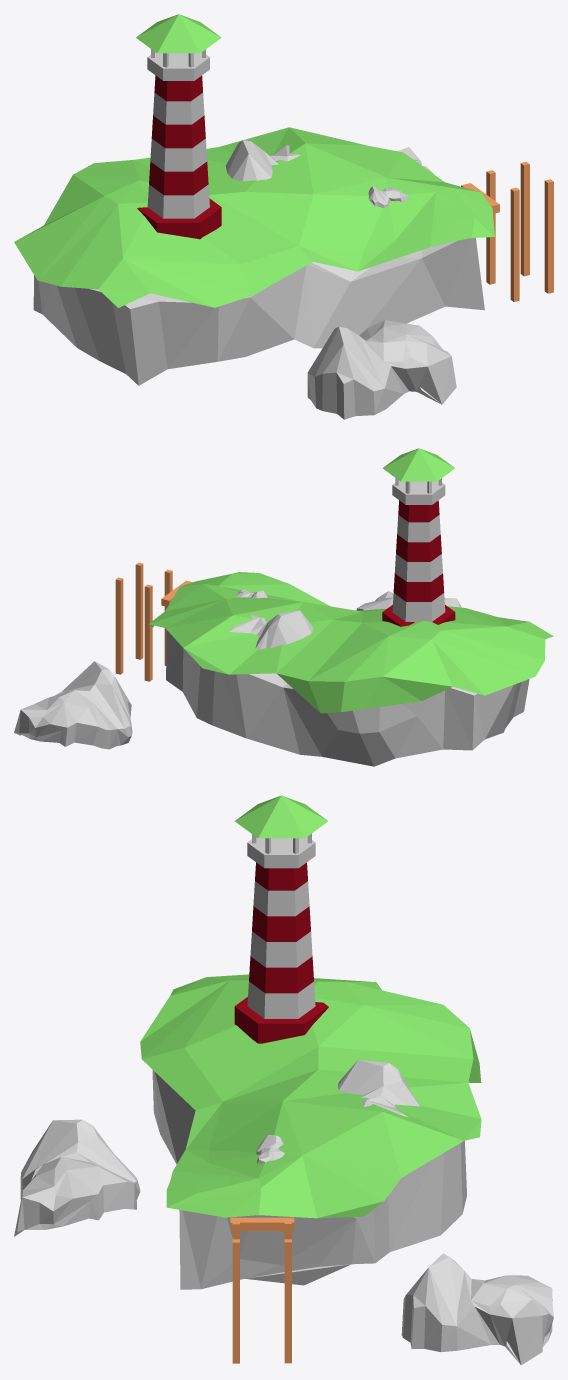
File: lighthouse.glb
3 renders of one model, top to bottom at view 1: azimuth 30°, elevation 25°; view 2: azimuth 150°, elevation 25°; view 3: azimuth 270°, elevation 25°, orthographic. The views are drawn at different scales.
Parts seen in each view (by area): view 1: Grid.001, Grid, lighthouse, Grid.002, Grid.004, Cube.001, Cube.003, Cube.002, Cube.004, Grid.005; view 2: Grid.001, Grid, lighthouse, Grid.003, Grid.004, Cube.001, Cube.002, Cube.004, Grid.002; view 3: Grid.001, Grid, lighthouse, Grid.003, Grid.002, Grid.004, Cube.001, Cube.002, Cube.
Part boxes in pixels (box(x1,y1,x2,y2)): Grid.001: box(14, 127, 494, 307); Grid: box(33, 238, 484, 385); lighthouse: box(136, 14, 221, 239); Grid.002: box(307, 320, 456, 419); Grid.004: box(225, 140, 300, 181); Cube.001: box(544, 179, 553, 293); Cube.003: box(510, 187, 519, 301); Cube.002: box(520, 162, 529, 276); Cube.004: box(486, 170, 495, 284); Grid.005: box(368, 186, 408, 208); Grid.001: box(149, 572, 553, 713); Grid: box(166, 630, 529, 766); lighthouse: box(382, 448, 455, 626); Grid.003: box(14, 661, 132, 749); Grid.004: box(229, 610, 313, 649); Cube.001: box(135, 562, 143, 659); Cube.002: box(115, 577, 123, 674); Cube.004: box(144, 584, 152, 681); Grid.002: box(356, 591, 461, 610); Grid.001: box(140, 974, 481, 1218); Grid: box(152, 1070, 466, 1289); lighthouse: box(234, 795, 328, 1043); Grid.003: box(401, 1253, 553, 1365); Grid.002: box(14, 1119, 140, 1236); Grid.004: box(337, 1060, 419, 1116); Cube.001: box(232, 1239, 239, 1363); Cube.002: box(284, 1239, 291, 1363); Cube: box(230, 1217, 294, 1231).
Bounding box in the file's own units: 4.68 × 3.14 × 4.01.
